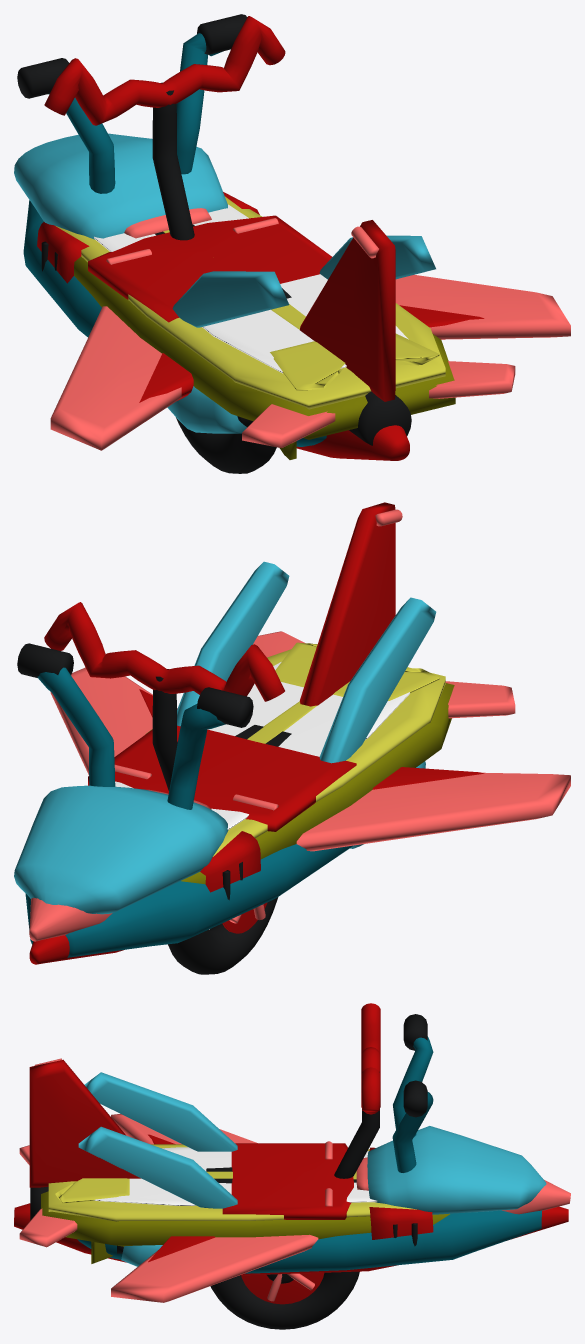
File: canonical-course-vehicles.glb
3 renders of one model, top to bottom at view 1: azimuth 30°, elevation 25°; view 2: azimuth 150°, elevation 25°; view 3: azimuth 270°, elevation 25°, orthographic. The views are drawn at different scales.
Parts seen in each view (by area): view 1: Speeder__Nose, ClingerVehicle__RiderDeck, Jet__LeftWing, Jet__TailFin, Surfboard__Body, Surfboard__UpperShell, Jet__RightWing, ClingerVehicle__Handlebar, Surfboard__Deck, Speeder__LeftTailFin, Speeder__RightHandle, Speeder__LeftHandle (+12 smaller); view 2: Speeder__Nose, Jet__LeftWing, ClingerVehicle__RiderDeck, Speeder__Body, Jet__TailFin, ClingerVehicle__Handlebar, Speeder__LeftTailFin, Surfboard__Body, Speeder__RightTailFin, Speeder__RightHandle, Surfboard__Deck, Jet__RightWing (+11 smaller); view 3: Speeder__Nose, Speeder__Body, ClingerVehicle__RiderDeck, Jet__TailFin, Jet__RightWing, ClingerVehicle__Wheel, Surfboard__Body, Speeder__RightTailFin, Speeder__LeftTailFin, Surfboard__UpperShell, Surfboard__Deck, ClingerVehicle__Handlebar (+10 smaller).
Part boxes in pixels (left/top/right/bottom): Speeder__Nose: left=14, top=133, right=227, bottom=239; ClingerVehicle__RiderDeck: left=88, top=215, right=331, bottom=322; Jet__LeftWing: left=50, top=306, right=193, bottom=450; Jet__TailFin: left=300, top=220, right=395, bottom=401; Surfboard__Body: left=43, top=221, right=455, bottom=439; Surfboard__UpperShell: left=56, top=196, right=445, bottom=409; Jet__RightWing: left=395, top=274, right=570, bottom=339; ClingerVehicle__Handlebar: left=44, top=16, right=285, bottom=125; Surfboard__Deck: left=94, top=204, right=408, bottom=373; Speeder__LeftTailFin: left=172, top=271, right=289, bottom=327; Speeder__RightHandle: left=176, top=14, right=247, bottom=174; Speeder__LeftHandle: left=17, top=58, right=115, bottom=193; Speeder__Nose: left=14, top=785, right=228, bottom=914; Jet__LeftWing: left=296, top=767, right=570, bottom=851; ClingerVehicle__RiderDeck: left=88, top=725, right=356, bottom=831; Speeder__Body: left=25, top=844, right=352, bottom=957; Jet__TailFin: left=300, top=502, right=402, bottom=706; ClingerVehicle__Handlebar: left=44, top=602, right=284, bottom=701; Speeder__LeftTailFin: left=319, top=597, right=436, bottom=763; Surfboard__Body: left=181, top=683, right=454, bottom=884; Speeder__RightTailFin: left=177, top=561, right=289, bottom=726; Speeder__RightHandle: left=17, top=643, right=115, bottom=786; Surfboard__Deck: left=115, top=662, right=409, bottom=829; Jet__RightWing: left=50, top=667, right=177, bottom=775; Speeder__Nose: left=367, top=1126, right=546, bottom=1214; Speeder__Body: left=77, top=1210, right=541, bottom=1273; ClingerVehicle__RiderDeck: left=222, top=1141, right=353, bottom=1219; Jet__TailFin: left=29, top=1058, right=140, bottom=1187; Jet__RightWing: left=111, top=1234, right=318, bottom=1302; ClingerVehicle__Wheel: left=210, top=1271, right=359, bottom=1329; Surfboard__Body: left=41, top=1191, right=449, bottom=1246; Speeder__RightTailFin: left=78, top=1126, right=237, bottom=1208; Speeder__LeftTailFin: left=84, top=1072, right=237, bottom=1151; Surfboard__UpperShell: left=48, top=1144, right=416, bottom=1221; Surfboard__Deck: left=93, top=1147, right=376, bottom=1205; ClingerVehicle__Handlebar: left=361, top=1003, right=380, bottom=1114.
Size of the model in its own units: 1.38 by 1.01 by 1.74.
Materials: 4 (4 with a texture image).
